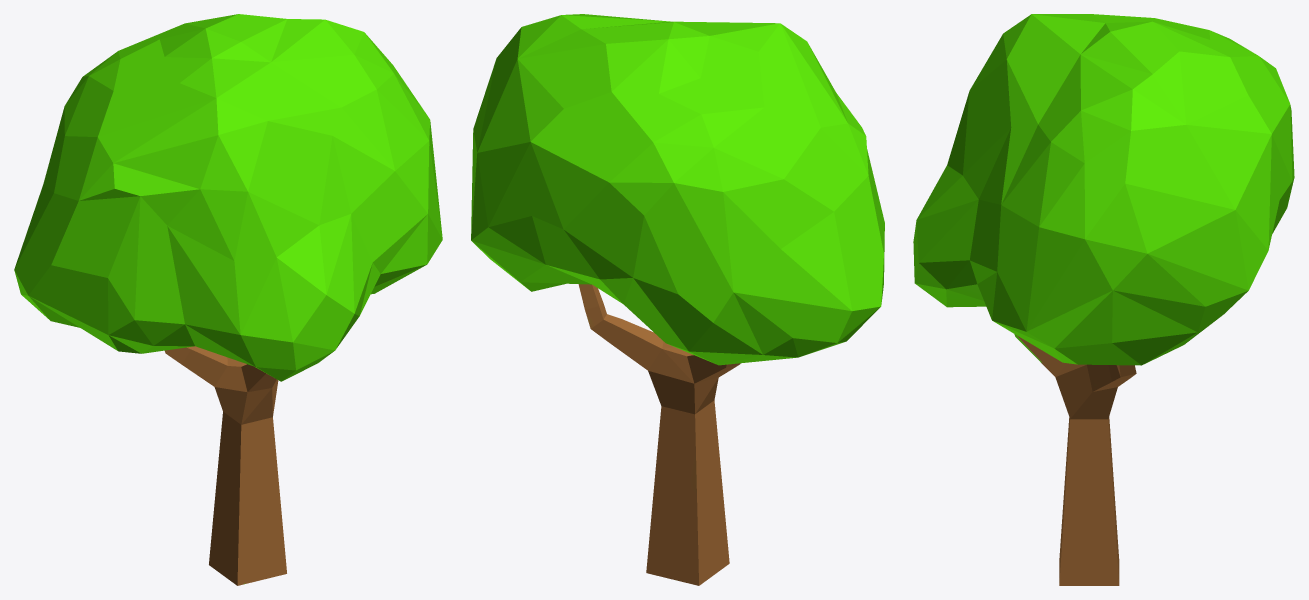
The model's file is Tree 2.fbx.
The picture shows the model from 3 angles, left to right: view 1: azimuth 30°, elevation 25°; view 2: azimuth 150°, elevation 25°; view 3: azimuth 270°, elevation 25°; orthographic projection. The views are drawn at different scales.
Visible parts, largest first — view 1: Tree; view 2: Tree; view 3: Tree.
Part boxes in pixels (box(x1,y1,x2,y2)): Tree: box(14, 14, 442, 585); Tree: box(471, 14, 884, 585); Tree: box(913, 14, 1294, 585).
Size of the model in its own units: 945 by 1238 by 784.
